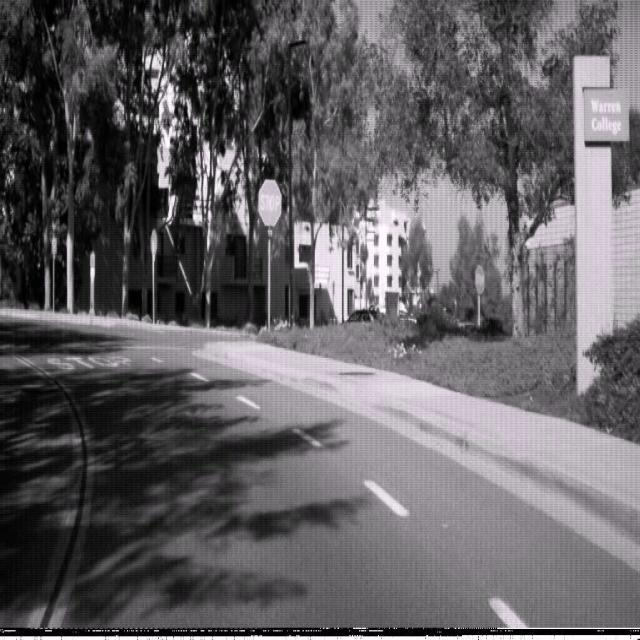stop: (257, 178, 282, 227), (474, 264, 485, 296)
